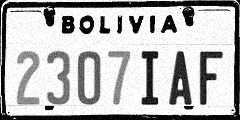0: (71, 41, 103, 108)
2: (8, 41, 38, 108)
3: (39, 41, 70, 108)
7: (104, 41, 134, 108)
A: (168, 41, 199, 108)
F: (200, 41, 231, 108)
I: (135, 41, 167, 108)
